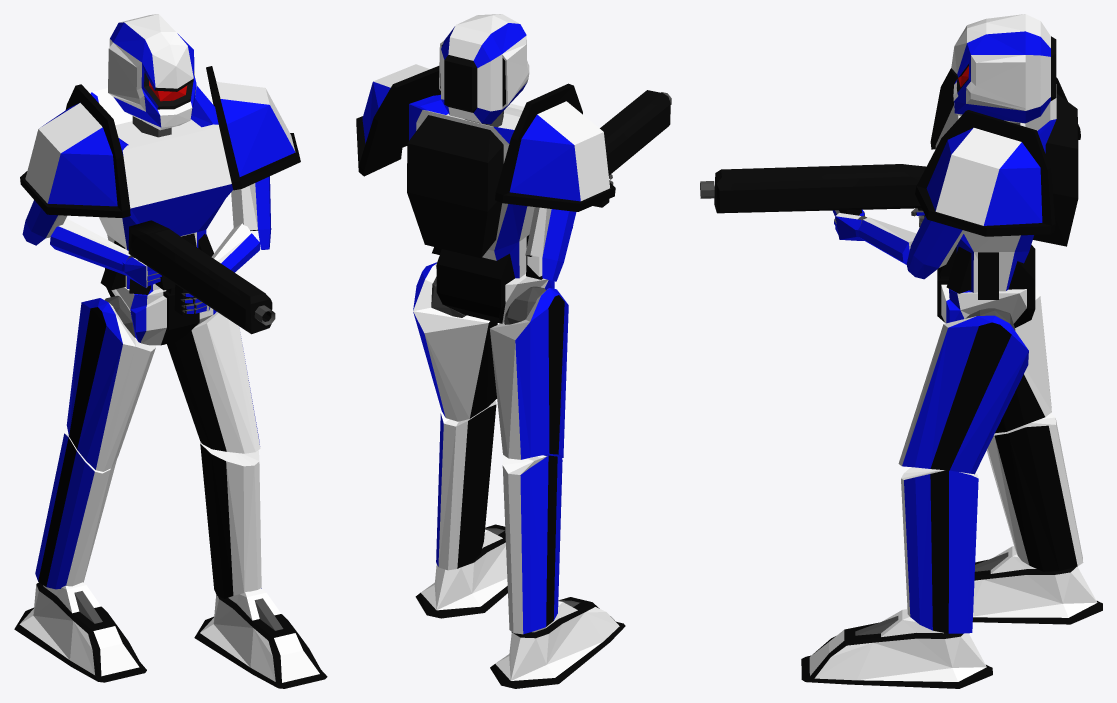
Rendered from robot_animation_000001.obj.
The picture shows the model from 3 angles, left to right: view 1: azimuth 30°, elevation 25°; view 2: azimuth 150°, elevation 25°; view 3: azimuth 270°, elevation 25°; orthographic projection. The views are drawn at different scales.
Visible parts, largest first — view 1: Chest_plate_Cube.004, Cube.002_Cube.059, R_Thigh_Cube.005, R_Thigh.002_Cube.027, Head_base_Cube.022, R_Shin.002_Cube.029, R_Foot_Cube, R_Foot.002_Cube.035, Cube_Cube.001, R_Shin_Cube.007, Cube_Cube.021, Pelvis_Cube.006 (+5 smaller); view 2: Chest_plate_Cube.004, Cube.002_Cube.059, R_Thigh_Cube.005, R_Shin_Cube.007, Head_base_Cube.022, R_Shin.002_Cube.029, R_Thigh.002_Cube.027, R_Foot_Cube, Cube_Cube.021, Pelvis_Cube.006, R_Foot.002_Cube.035, Cube_Cube.001 (+2 smaller); view 3: Cube_Cube.021, R_Thigh.002_Cube.027, R_Shin.002_Cube.029, R_Shin_Cube.007, R_Foot.002_Cube.035, Head_base_Cube.022, Cube_Cube.001, Chest_plate_Cube.004, R_Foot_Cube, R_Thigh_Cube.005, Pelvis_Cube.006, L_Arm_Cube.014 (+3 smaller).
Boxes of the visible parts, x1,y1,x2,y2 form: Chest_plate_Cube.004: [90, 86, 233, 294]; Cube.002_Cube.059: [20, 84, 130, 217]; R_Thigh_Cube.005: [66, 298, 156, 471]; R_Thigh.002_Cube.027: [167, 312, 260, 453]; Head_base_Cube.022: [108, 14, 196, 130]; R_Shin.002_Cube.029: [200, 441, 261, 598]; R_Foot_Cube: [14, 582, 146, 682]; R_Foot.002_Cube.035: [194, 588, 327, 688]; Cube_Cube.001: [128, 220, 275, 334]; R_Shin_Cube.007: [35, 433, 117, 589]; Cube_Cube.021: [206, 66, 300, 190]; Pelvis_Cube.006: [105, 268, 216, 345]; Chest_plate_Cube.004: [407, 94, 542, 279]; Cube.002_Cube.059: [495, 83, 615, 211]; R_Thigh_Cube.005: [490, 288, 568, 459]; R_Shin_Cube.007: [502, 455, 562, 634]; Head_base_Cube.022: [439, 14, 529, 124]; R_Shin.002_Cube.029: [436, 400, 496, 570]; R_Thigh.002_Cube.027: [413, 262, 497, 421]; R_Foot_Cube: [490, 597, 625, 688]; Cube_Cube.021: [356, 64, 440, 176]; Pelvis_Cube.006: [435, 249, 554, 323]; R_Foot.002_Cube.035: [415, 524, 507, 618]; Cube_Cube.001: [593, 90, 671, 207]; Cube_Cube.021: [915, 110, 1055, 236]; R_Thigh.002_Cube.027: [898, 315, 1028, 474]; R_Shin.002_Cube.029: [901, 467, 978, 633]; R_Shin_Cube.007: [986, 413, 1083, 571]; R_Foot.002_Cube.035: [801, 609, 992, 688]; Head_base_Cube.022: [951, 14, 1056, 123]; Cube_Cube.001: [700, 164, 926, 217]; Chest_plate_Cube.004: [935, 84, 1078, 299]; R_Foot_Cube: [972, 546, 1102, 624]; R_Thigh_Cube.005: [995, 285, 1051, 433]; Pelvis_Cube.006: [937, 245, 1035, 327]; L_Arm_Cube.014: [906, 216, 964, 279].
Size of the model in its own units: 1.32 by 3.03 by 1.78.
